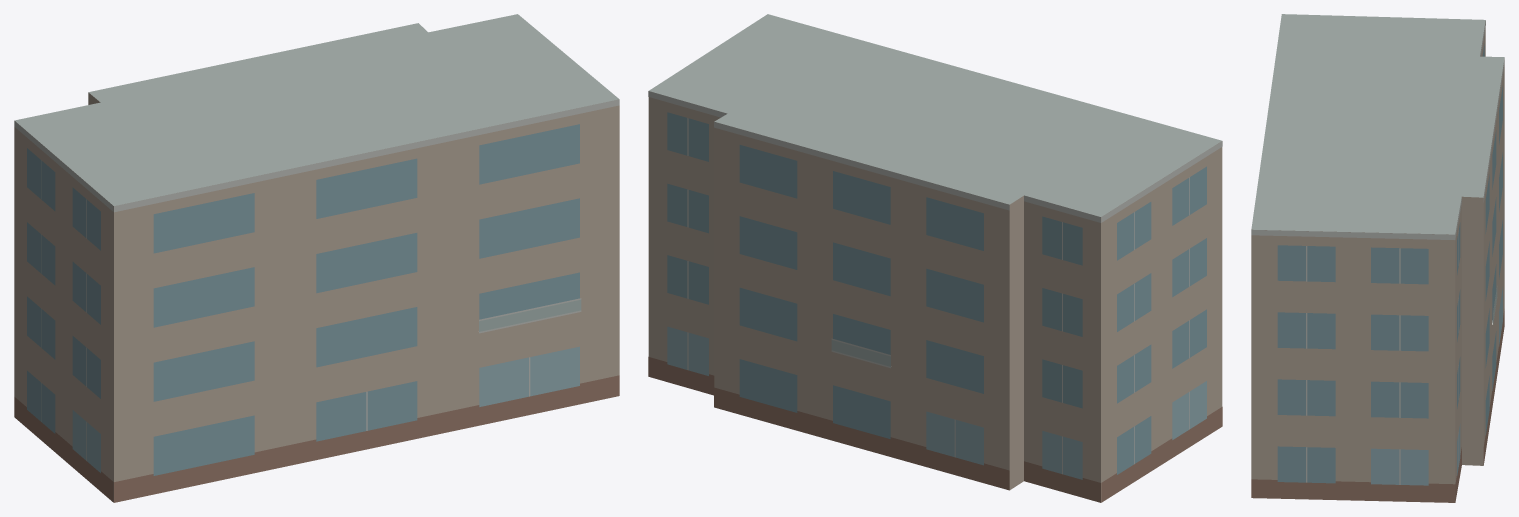
File: survey-upis-32736053.glb
The picture shows the model from 3 angles, left to right: view 1: azimuth 30°, elevation 25°; view 2: azimuth 150°, elevation 25°; view 3: azimuth 270°, elevation 25°; orthographic projection. The views are drawn at different scales.
Visible parts, largest first — view 1: survey-upis-32736053.tmp; view 2: survey-upis-32736053.tmp; view 3: survey-upis-32736053.tmp.
Part boxes in pixels (x1,y1,x2,y2): survey-upis-32736053.tmp: (14, 14, 619, 502); survey-upis-32736053.tmp: (648, 14, 1222, 502); survey-upis-32736053.tmp: (1251, 14, 1504, 502).
Bounding box in the file's own units: 20.82 × 11.8 × 10.11.
